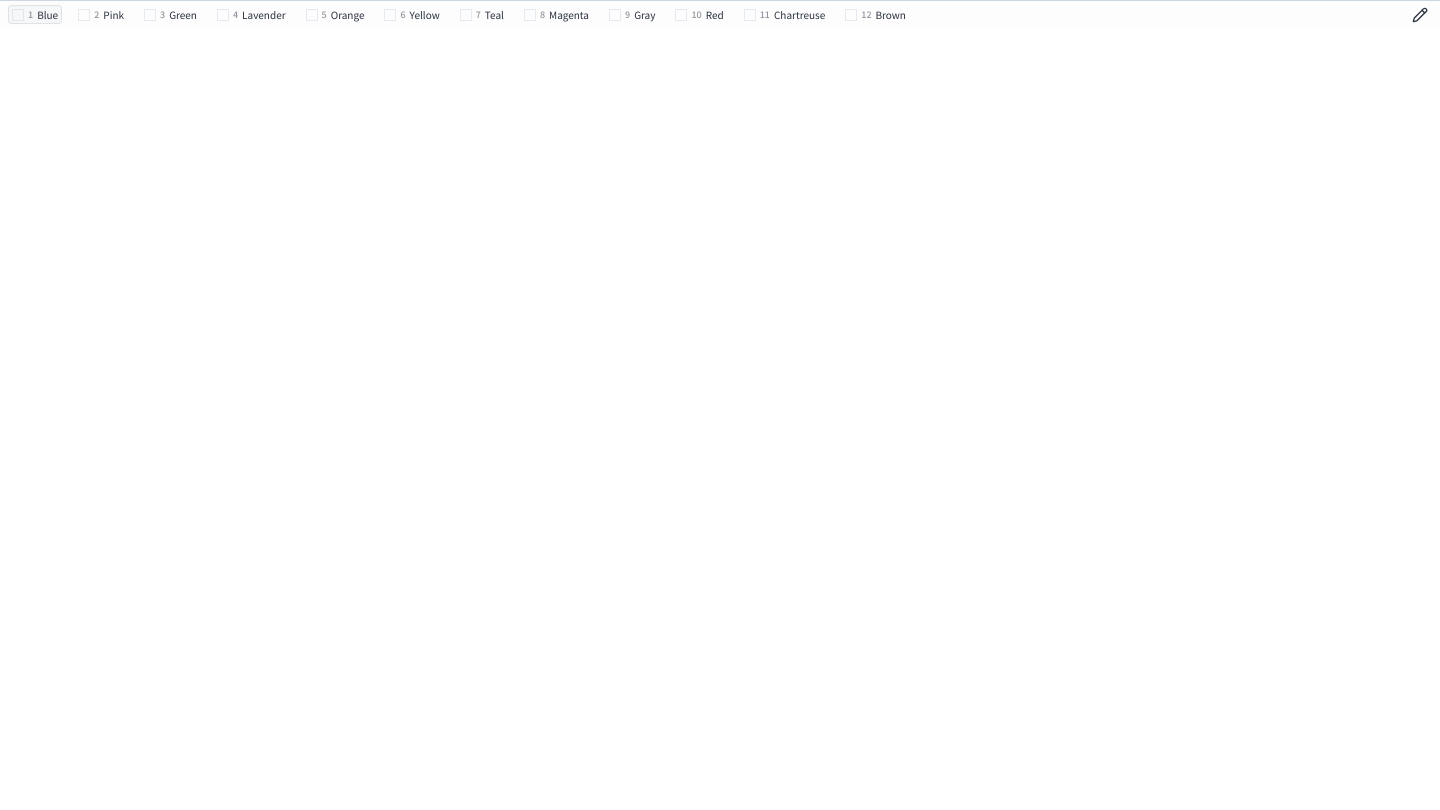
Scenario: renaming from the weekly strip › shows the new name in the strip behind the dialog
The width and height of the screenshot is (1440, 810).
Step 1. Click the button named "rename colour tags" → (1420,14), box [1408,2,1432,26]
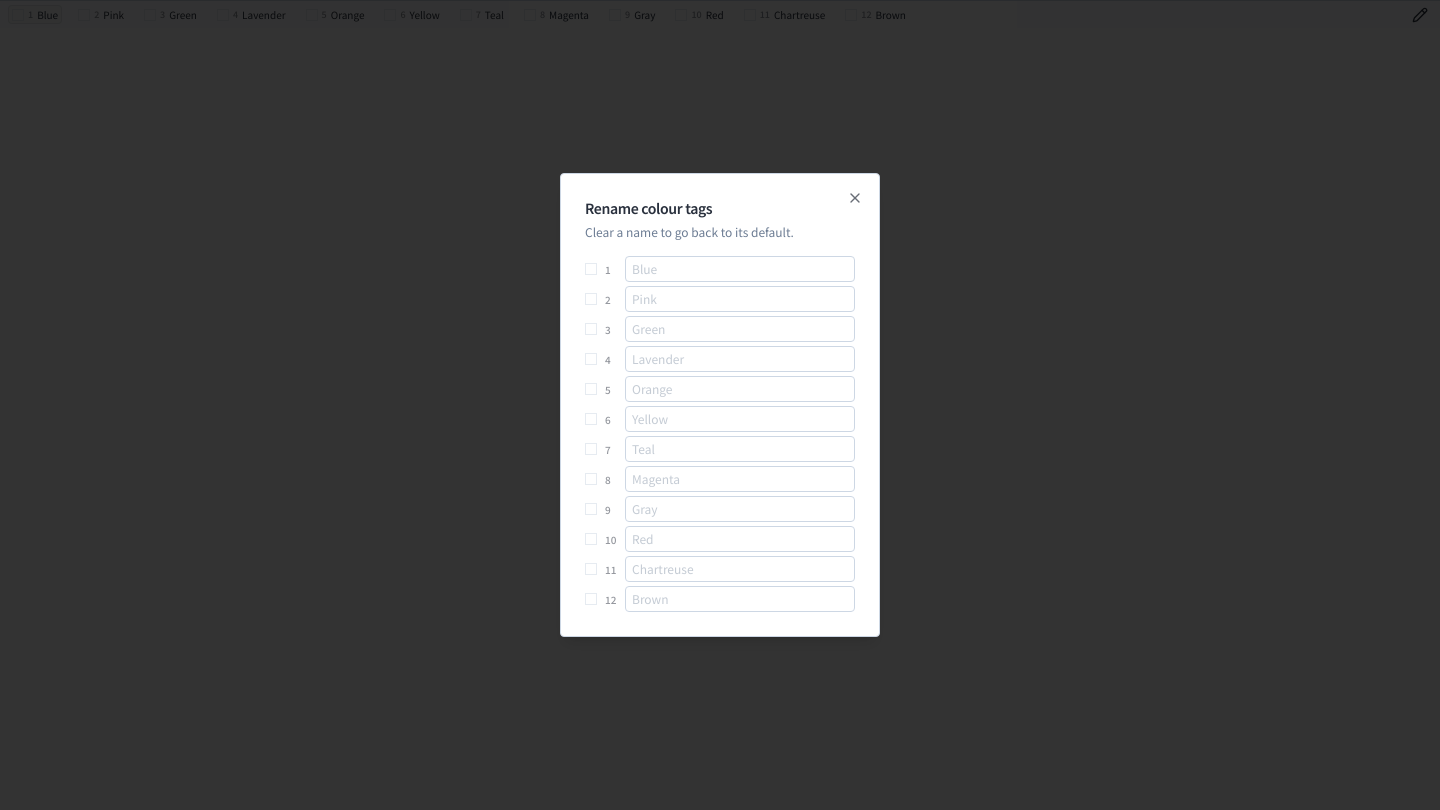
Step 2. Type "Buffer" into the field named "rename gray" → (740,509), box [625,496,855,522]
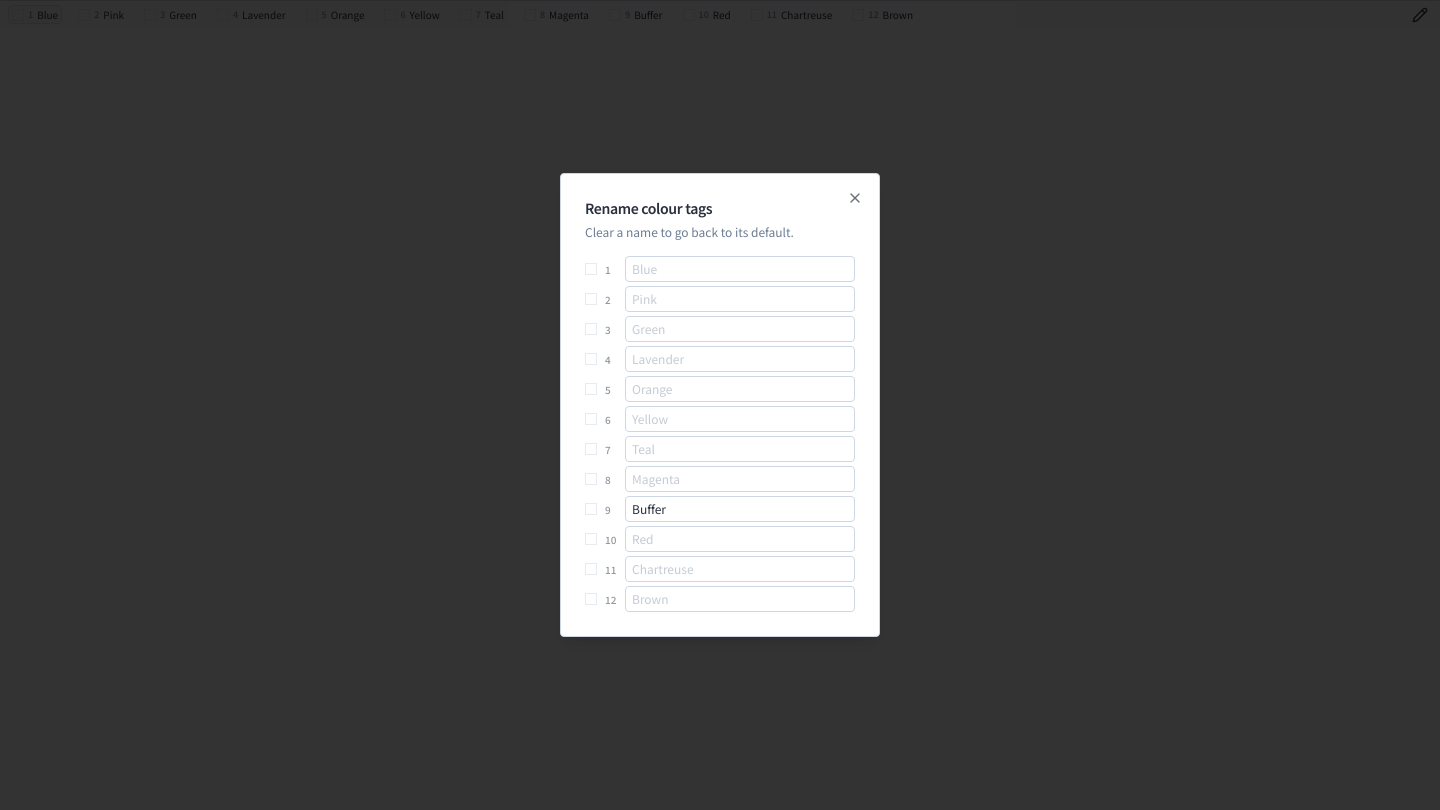
Now the text "Buffer" is shown, box [634,7,662,22]
